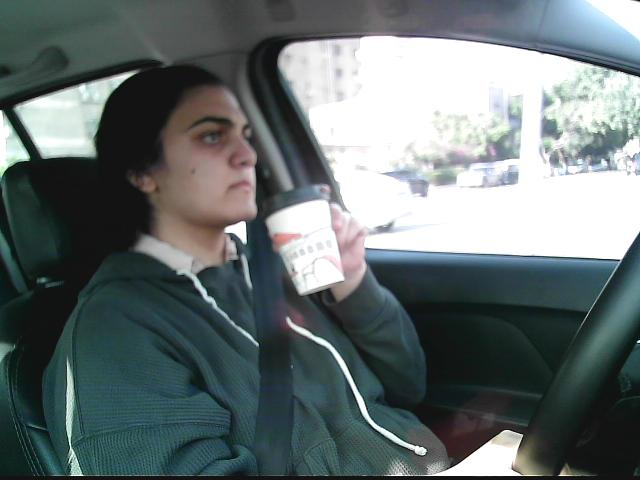Drinking: (258, 183, 349, 298)
